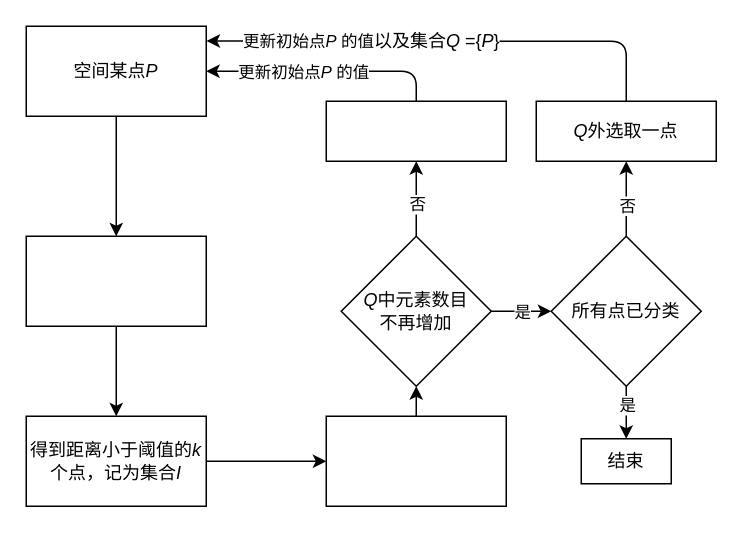
This 743x533 diagram has some shape labels left out. The shapes that lost their labels are listed below. From the top down, each one's centre as x and y in pixels, then its label:
(415,130): Q 中选取 P 以外的点
(115,280): 搜索以 P 为中心，设定阈值为半径的邻域
(415,460): 将 k 个点聚类于集合 Q Q ← Q ∪ I
